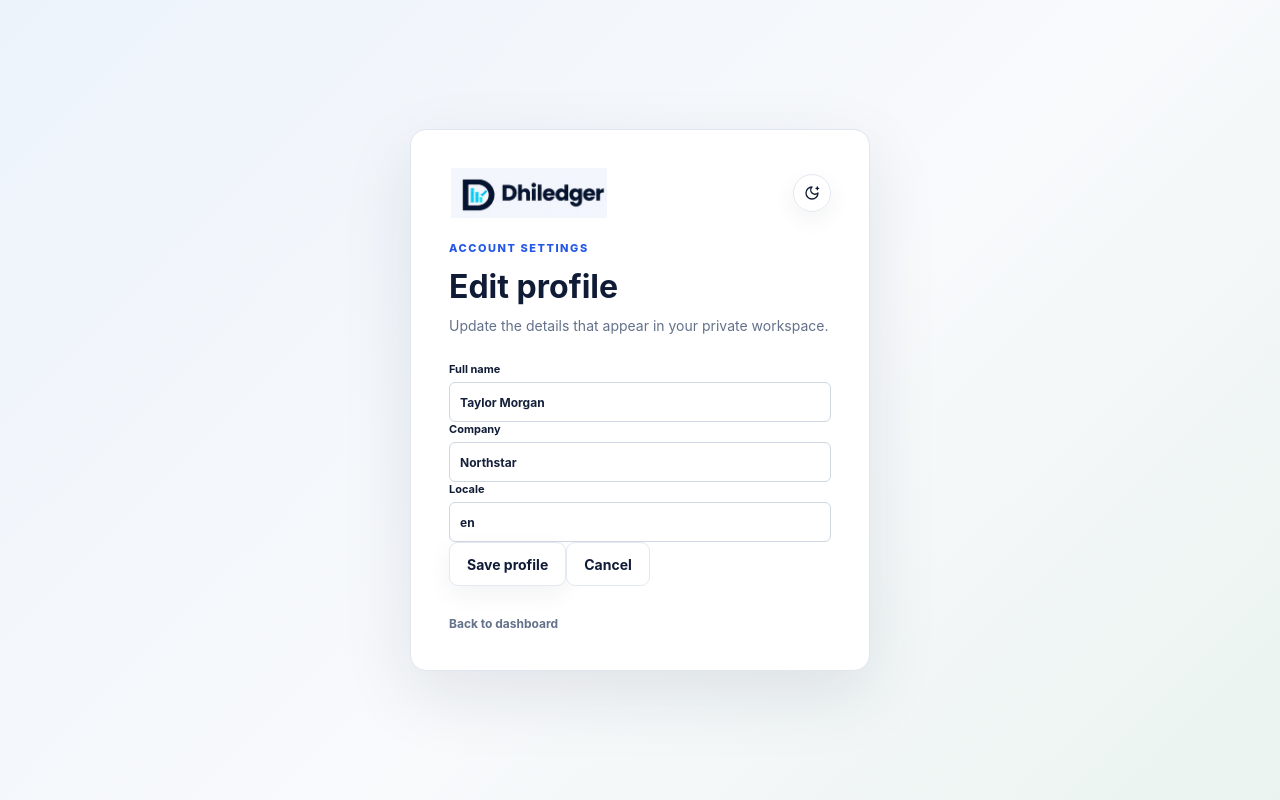
Test case: LiveDashboard profile editor › shows the Supabase error if saving profile metadata fails
The width and height of the screenshot is (1280, 800).
Click the button "Save profile".
click(508, 564)  # box [449,542,566,586]
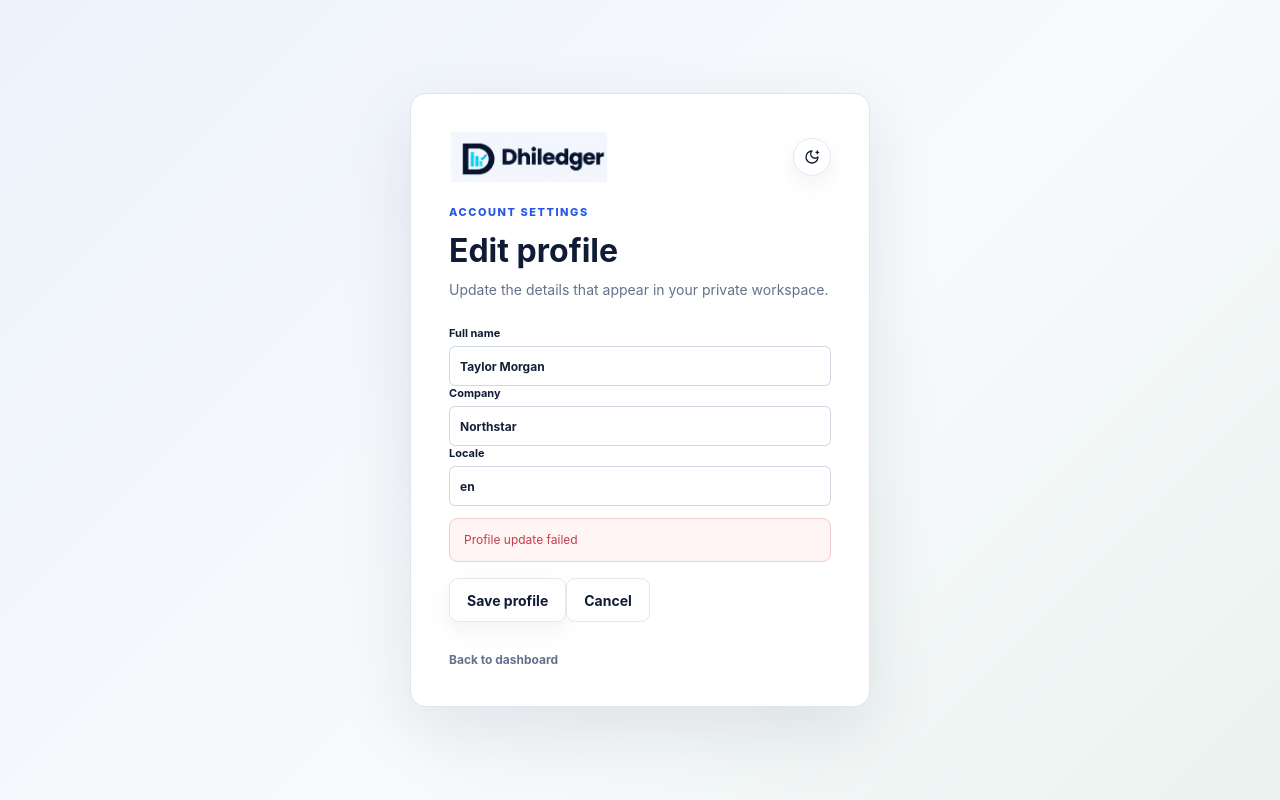
Check: the message reads "Profile update failed", box [464,532,578,547]
